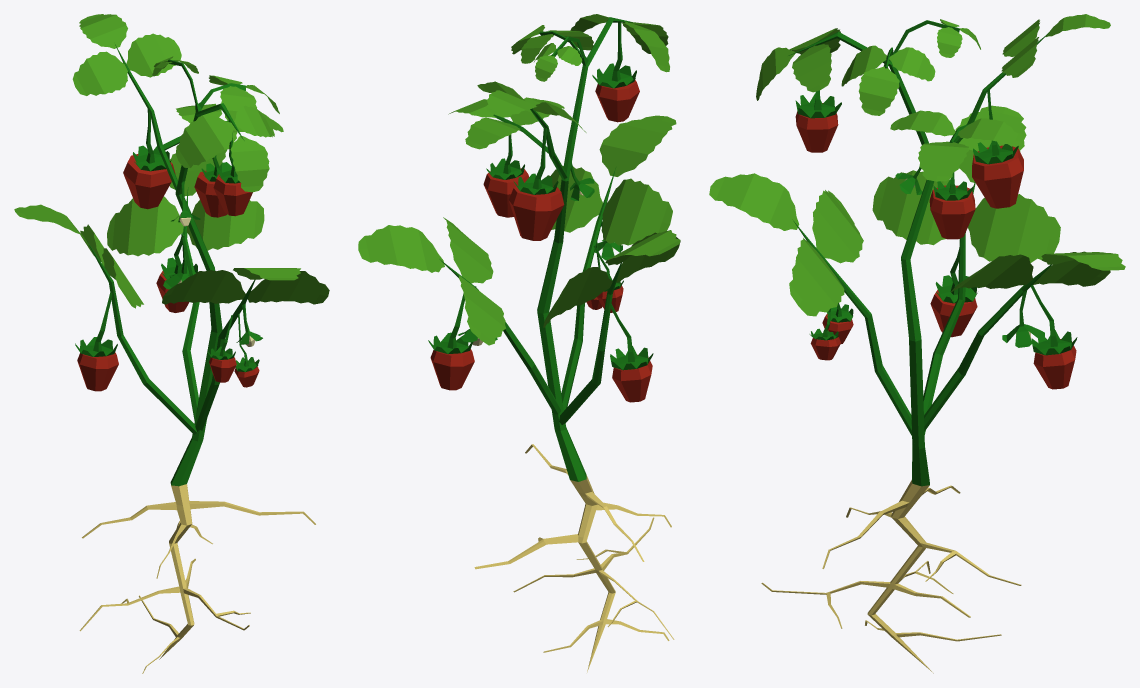
File: strawberry_3.glb
3 renders of one model, left to right at view 1: azimuth 30°, elevation 25°; view 2: azimuth 150°, elevation 25°; view 3: azimuth 270°, elevation 25°, orthographic. The views are drawn at different scales.
Parts seen in each view (by area): view 1: NurbsPath.021; view 2: NurbsPath.021; view 3: NurbsPath.021.
Boxes of the visible parts, x1,y1,x2,y2 form: NurbsPath.021: (14, 14, 329, 673); NurbsPath.021: (358, 14, 680, 672); NurbsPath.021: (709, 14, 1125, 673).
Bounding box in the file's own units: 6.95 × 15.55 × 8.83.
Materials: 1 (1 with a texture image).
